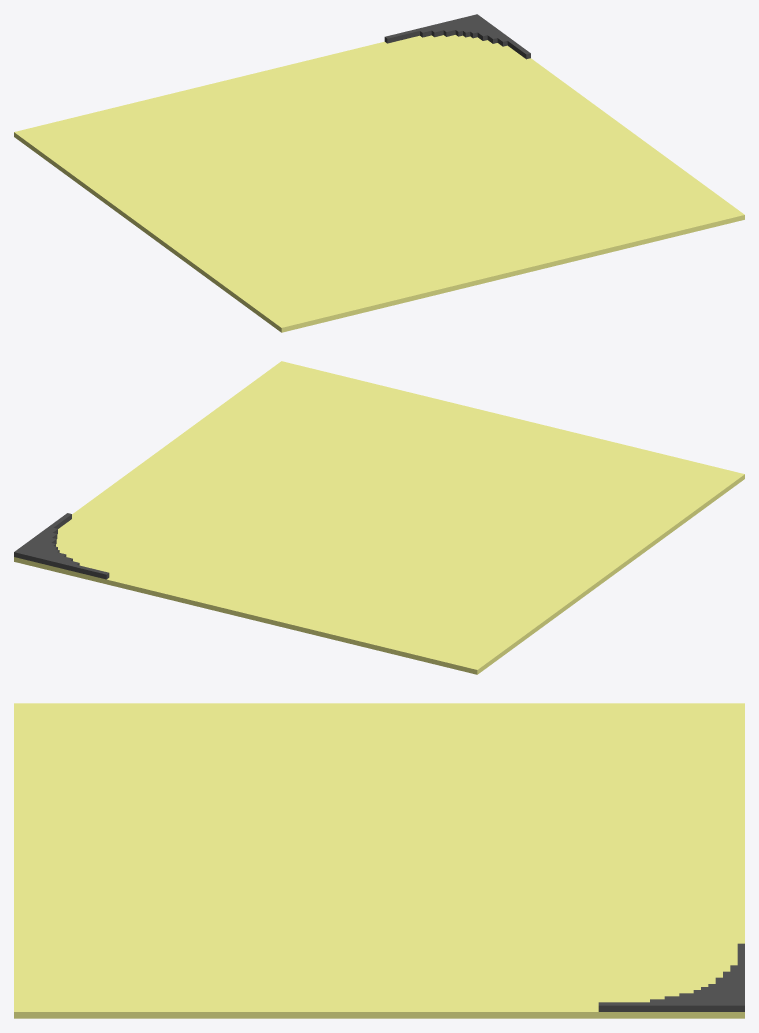
The model's file is --26-Corner 1.obj.
The picture shows the model from 3 angles, top to bottom: view 1: azimuth 30°, elevation 25°; view 2: azimuth 150°, elevation 25°; view 3: azimuth 270°, elevation 25°; orthographic projection. The views are drawn at different scales.
Visible parts, largest first — view 1: Corner 1; view 2: Corner 1; view 3: Corner 1.
Part boxes in pixels (x1,y1,x2,y2): Corner 1: [14, 14, 744, 332]; Corner 1: [14, 361, 744, 674]; Corner 1: [14, 703, 744, 1018].
Bounding box in the file's own units: 10 × 0.2 × 10.
1 material, 1 textured.
